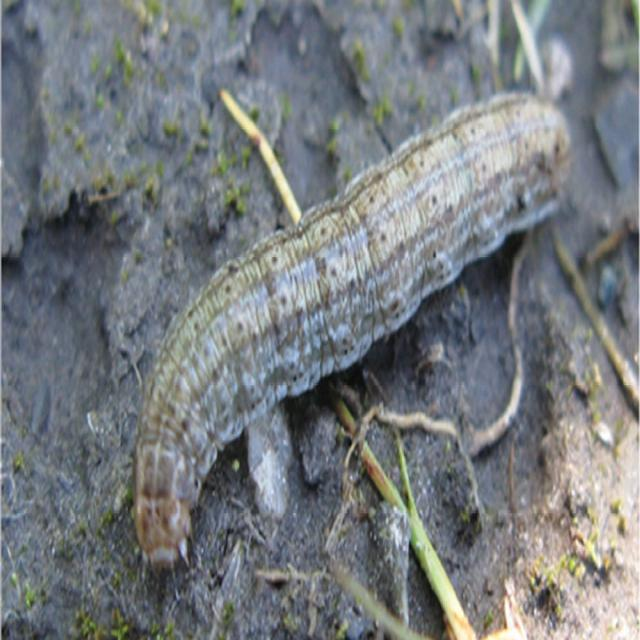worm: (132, 88, 573, 574)
